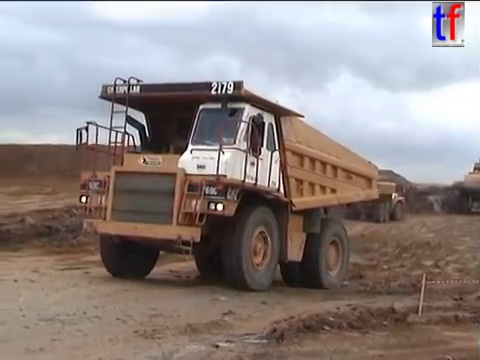excavator: (471, 158, 480, 191)
truck: (73, 74, 381, 294), (337, 176, 407, 224), (444, 171, 480, 215)
